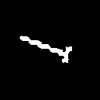half_double_crochet: (20, 36, 71, 62)
